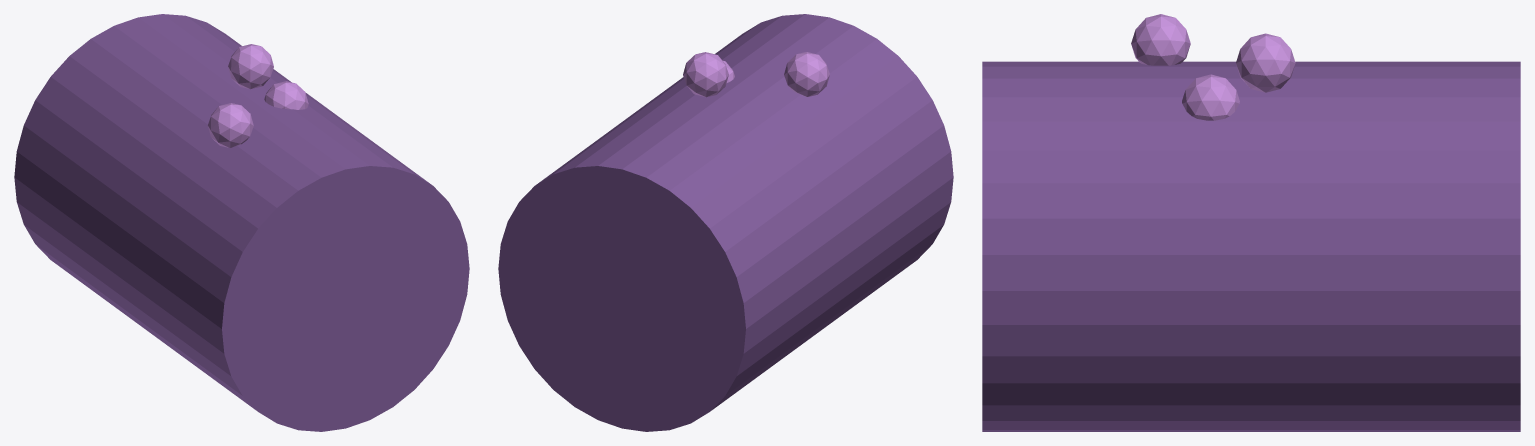
The model's file is eclipse_spawn.glb.
The picture shows the model from 3 angles, left to right: view 1: azimuth 30°, elevation 25°; view 2: azimuth 150°, elevation 25°; view 3: azimuth 270°, elevation 25°; orthographic projection. The views are drawn at different scales.
Visible parts, largest first — view 1: geometry_0; view 2: geometry_0; view 3: geometry_0.
Boxes of the visible parts, x1,y1,x2,y2 form: geometry_0: [14, 14, 469, 431]; geometry_0: [498, 14, 953, 431]; geometry_0: [982, 14, 1520, 431].
Bounding box in the file's own units: 0.62 × 0.7159 × 0.9.
